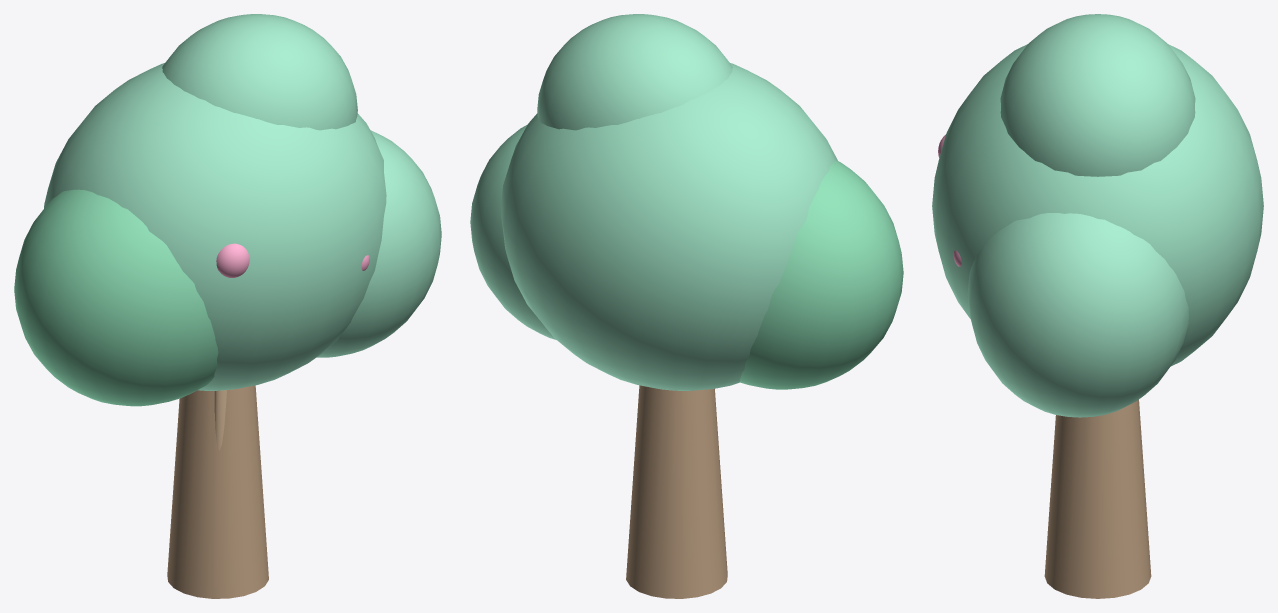
File: tree.glb
The picture shows the model from 3 angles, left to right: view 1: azimuth 30°, elevation 25°; view 2: azimuth 150°, elevation 25°; view 3: azimuth 270°, elevation 25°; orthographic projection. The views are drawn at different scales.
Parts seen in each view (by area): view 1: leaf center, leaf left, tapered trunk, leaf top, leaf right, tiny berry one, trunk highlight; view 2: leaf center, leaf left, tapered trunk, leaf top, leaf right; view 3: leaf center, leaf right, leaf top, tapered trunk.
Part boxes in pixels (box(x1,y1,x2,y2)): leaf center: box(44, 63, 386, 390); leaf left: box(14, 189, 218, 406); tapered trunk: box(167, 385, 268, 598); leaf top: box(162, 14, 357, 130); leaf right: box(317, 130, 441, 357); tiny berry one: box(216, 243, 249, 277); trunk highlight: box(214, 390, 226, 450); leaf center: box(501, 63, 837, 390); leaf left: box(739, 160, 903, 389); tapered trunk: box(626, 385, 727, 598); leaf top: box(537, 14, 732, 130); leaf right: box(470, 124, 555, 339); leaf center: box(932, 44, 1263, 366); leaf right: box(967, 213, 1188, 417); leaf top: box(1000, 14, 1195, 176); tapered trunk: box(1044, 399, 1151, 598).
Bounding box in the file's own units: 0.82 × 1.06 × 0.56.
